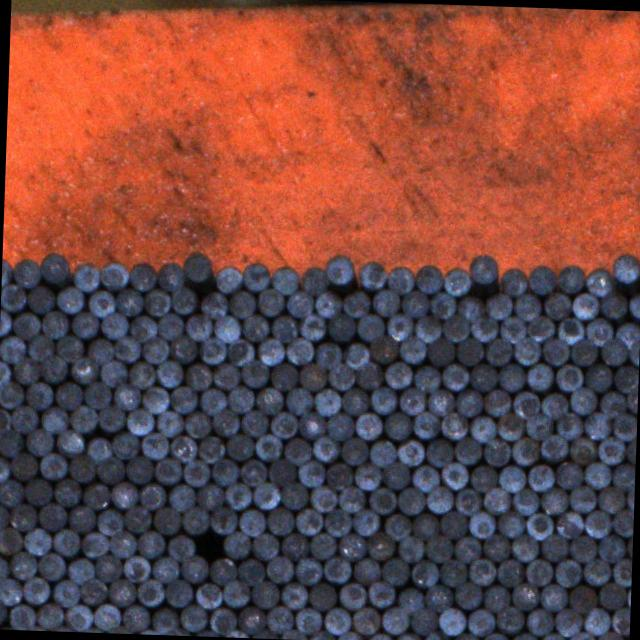tool: (40, 252, 70, 284), (586, 266, 616, 297), (184, 251, 214, 282), (470, 254, 500, 284), (358, 260, 388, 290), (554, 264, 584, 294), (11, 258, 40, 288), (414, 265, 443, 295), (526, 264, 555, 294), (99, 260, 128, 290), (497, 266, 526, 296), (326, 253, 354, 284), (128, 262, 156, 292), (272, 264, 300, 294), (510, 436, 538, 466), (157, 260, 185, 290), (444, 266, 472, 296), (612, 251, 640, 281), (426, 438, 454, 468), (22, 526, 51, 554), (241, 262, 269, 291), (180, 506, 208, 535), (23, 379, 51, 408), (512, 291, 540, 320), (498, 362, 526, 391), (143, 286, 171, 315), (586, 318, 614, 347), (427, 337, 455, 366), (568, 436, 597, 464), (512, 389, 540, 418), (10, 450, 37, 480), (216, 264, 243, 294), (75, 262, 102, 292), (440, 461, 468, 489), (402, 289, 430, 317), (106, 579, 134, 607), (38, 504, 66, 532), (386, 266, 414, 294), (322, 605, 350, 633), (222, 530, 250, 558), (268, 362, 296, 390), (280, 531, 308, 559), (496, 559, 524, 587), (326, 412, 354, 440), (568, 386, 596, 414), (357, 313, 385, 341), (350, 508, 378, 536), (568, 484, 596, 512), (295, 508, 323, 536), (543, 292, 571, 320), (113, 286, 141, 314), (22, 476, 50, 504), (538, 582, 566, 610), (582, 607, 610, 635), (94, 455, 122, 483), (36, 551, 64, 579), (298, 362, 326, 390), (554, 607, 582, 635), (38, 451, 66, 479), (582, 510, 610, 538), (596, 486, 624, 514), (124, 456, 152, 484), (226, 434, 254, 462), (553, 459, 581, 487), (308, 582, 336, 610), (284, 336, 312, 364), (438, 558, 466, 586), (512, 337, 540, 365), (524, 361, 552, 389), (25, 429, 53, 457), (70, 404, 98, 432), (510, 533, 538, 561), (87, 288, 115, 316), (100, 311, 128, 339), (482, 337, 510, 365), (96, 404, 124, 432), (554, 362, 582, 390), (154, 507, 182, 535), (284, 386, 312, 414), (496, 508, 524, 536), (142, 432, 170, 460), (540, 533, 568, 561), (337, 532, 365, 560), (542, 338, 570, 366), (236, 508, 264, 536), (596, 580, 624, 608), (426, 485, 454, 513), (568, 533, 596, 561), (366, 530, 394, 558), (10, 404, 38, 432), (452, 580, 480, 608), (382, 361, 410, 389), (38, 406, 66, 434), (568, 584, 596, 612), (466, 607, 494, 635), (410, 463, 438, 491), (496, 606, 524, 634), (424, 534, 452, 562), (481, 436, 509, 464), (26, 285, 54, 313), (413, 365, 441, 393), (326, 312, 354, 340), (468, 363, 496, 391), (283, 438, 311, 466), (12, 310, 40, 338), (182, 362, 210, 390), (454, 387, 482, 415), (380, 607, 408, 635), (540, 486, 568, 514), (498, 463, 526, 491), (54, 382, 82, 410), (10, 356, 38, 384), (128, 314, 156, 342), (56, 286, 84, 314), (166, 534, 194, 562), (454, 336, 482, 364), (438, 361, 466, 389), (556, 315, 584, 343), (185, 314, 213, 342), (601, 338, 629, 366), (584, 362, 612, 390), (524, 413, 552, 441), (554, 510, 582, 538), (526, 314, 554, 342), (470, 466, 498, 494), (300, 266, 328, 294), (370, 334, 398, 362), (540, 432, 568, 460), (150, 608, 178, 636), (598, 390, 626, 418), (598, 437, 625, 466), (85, 338, 114, 365), (497, 412, 524, 441), (68, 356, 98, 382), (256, 434, 283, 462), (256, 337, 284, 364), (226, 384, 253, 412), (21, 576, 48, 604), (240, 458, 267, 486), (142, 385, 169, 413), (53, 478, 80, 506), (257, 287, 284, 315), (238, 605, 265, 633), (253, 482, 281, 509), (163, 579, 190, 607), (122, 553, 150, 580), (510, 581, 537, 609), (251, 580, 278, 608), (211, 458, 238, 486), (482, 388, 509, 416), (572, 292, 599, 320), (9, 502, 36, 530), (441, 412, 468, 440), (265, 507, 292, 535), (214, 314, 241, 342), (355, 412, 382, 440), (470, 313, 498, 340), (526, 608, 553, 636), (468, 557, 495, 585), (268, 459, 296, 486), (372, 288, 399, 316), (369, 385, 396, 413), (582, 461, 610, 488), (212, 408, 239, 436), (482, 486, 510, 513), (366, 581, 394, 608), (368, 440, 395, 468), (312, 388, 339, 416), (399, 387, 426, 415), (383, 556, 410, 584), (198, 336, 225, 364), (109, 530, 136, 558), (384, 514, 412, 541), (222, 580, 249, 608), (155, 410, 182, 438), (154, 456, 181, 484), (270, 410, 297, 438), (453, 436, 480, 464), (9, 550, 36, 578), (340, 438, 367, 466), (325, 510, 352, 538), (571, 339, 598, 367), (208, 506, 235, 534), (212, 362, 240, 389), (80, 576, 107, 604), (484, 291, 511, 319), (399, 336, 426, 364), (298, 410, 325, 438), (228, 288, 255, 316), (384, 412, 411, 440), (414, 314, 441, 342), (142, 334, 169, 362), (171, 334, 198, 362), (426, 388, 453, 416), (198, 387, 225, 415), (396, 588, 424, 615), (56, 335, 84, 362), (526, 511, 553, 539), (27, 334, 54, 362), (84, 381, 112, 408), (540, 391, 568, 418), (453, 486, 480, 514), (598, 534, 625, 562), (470, 414, 497, 442), (554, 411, 582, 438), (481, 531, 508, 559), (156, 312, 183, 340), (410, 606, 437, 634), (196, 482, 223, 510), (352, 606, 379, 634), (227, 338, 254, 366), (99, 358, 126, 386), (340, 386, 367, 414), (255, 386, 282, 414), (352, 556, 379, 584), (200, 290, 227, 318), (66, 604, 93, 632), (500, 316, 527, 344), (410, 512, 437, 540), (314, 341, 342, 368), (40, 354, 67, 382), (324, 556, 351, 583), (381, 461, 408, 488), (583, 559, 610, 586), (512, 489, 539, 516), (299, 459, 326, 486), (280, 581, 307, 608), (139, 483, 166, 510), (151, 555, 178, 582), (397, 438, 424, 465), (338, 583, 365, 610), (353, 362, 380, 389), (194, 581, 221, 608), (439, 511, 466, 538), (171, 387, 198, 414), (439, 316, 466, 343), (287, 289, 314, 316), (114, 382, 141, 409), (72, 312, 99, 339), (114, 335, 141, 362), (583, 412, 610, 439), (481, 585, 508, 612), (398, 487, 424, 515), (138, 578, 164, 606), (138, 528, 164, 556), (110, 482, 138, 508), (526, 558, 552, 586), (52, 526, 78, 554), (294, 556, 320, 584), (224, 481, 250, 509), (180, 554, 206, 582), (155, 358, 181, 386), (238, 558, 264, 586), (240, 314, 266, 342), (554, 558, 580, 586), (167, 484, 193, 512), (124, 504, 150, 532), (52, 579, 78, 607), (252, 531, 278, 559), (280, 481, 306, 509), (56, 430, 82, 458), (240, 358, 266, 386), (42, 309, 68, 337), (93, 553, 119, 581), (264, 606, 290, 634), (270, 314, 296, 342), (526, 463, 552, 491), (452, 533, 478, 561), (342, 290, 368, 318), (328, 361, 354, 389), (438, 606, 464, 634), (68, 556, 94, 584), (600, 292, 628, 318), (410, 560, 436, 588), (70, 454, 96, 482), (36, 604, 64, 630), (0, 281, 25, 310), (612, 412, 637, 441), (614, 362, 638, 392), (180, 604, 207, 630), (81, 532, 108, 558), (68, 506, 94, 533), (412, 411, 438, 438), (182, 458, 208, 485), (369, 486, 395, 513), (355, 462, 381, 489), (112, 432, 138, 459), (430, 291, 456, 318), (425, 584, 451, 611), (242, 409, 268, 436), (196, 436, 222, 463), (168, 436, 194, 463), (469, 510, 495, 537), (328, 462, 354, 489), (128, 361, 154, 388), (126, 408, 153, 434), (92, 602, 119, 628), (312, 436, 338, 463), (184, 410, 210, 437), (84, 481, 110, 508), (300, 313, 326, 340), (122, 604, 148, 631), (96, 508, 122, 535), (208, 606, 234, 633), (314, 290, 341, 316), (456, 294, 483, 320), (342, 342, 368, 369), (387, 313, 412, 341), (0, 333, 24, 362), (210, 558, 236, 584), (310, 534, 336, 560), (266, 556, 292, 582), (294, 606, 320, 632), (338, 486, 364, 512), (313, 486, 339, 512), (9, 604, 35, 630), (172, 286, 198, 312), (614, 320, 640, 346), (86, 436, 112, 462), (612, 461, 636, 489), (398, 535, 422, 562), (0, 578, 22, 606), (612, 509, 634, 537), (0, 477, 22, 505), (611, 556, 632, 585), (0, 381, 21, 409), (610, 605, 630, 634), (0, 428, 20, 457), (0, 525, 20, 553), (1, 257, 13, 286), (628, 289, 640, 317), (628, 339, 640, 367), (279, 628, 305, 640), (308, 628, 334, 640), (624, 437, 636, 463), (0, 307, 11, 335), (252, 628, 279, 639), (596, 630, 624, 640), (0, 406, 10, 433), (627, 386, 638, 410), (337, 630, 363, 640), (0, 360, 10, 386), (425, 630, 450, 640), (569, 631, 596, 640), (0, 456, 9, 483), (223, 629, 249, 638), (162, 628, 191, 636), (107, 625, 135, 633), (366, 632, 393, 640), (49, 624, 76, 632), (510, 632, 536, 640), (396, 632, 422, 640), (453, 632, 479, 640), (626, 486, 634, 512), (625, 533, 633, 559), (0, 554, 7, 581), (0, 503, 7, 530), (539, 633, 566, 640), (194, 630, 221, 637), (483, 633, 509, 640), (137, 628, 163, 635), (0, 597, 6, 625), (79, 626, 104, 632), (22, 624, 46, 630)
